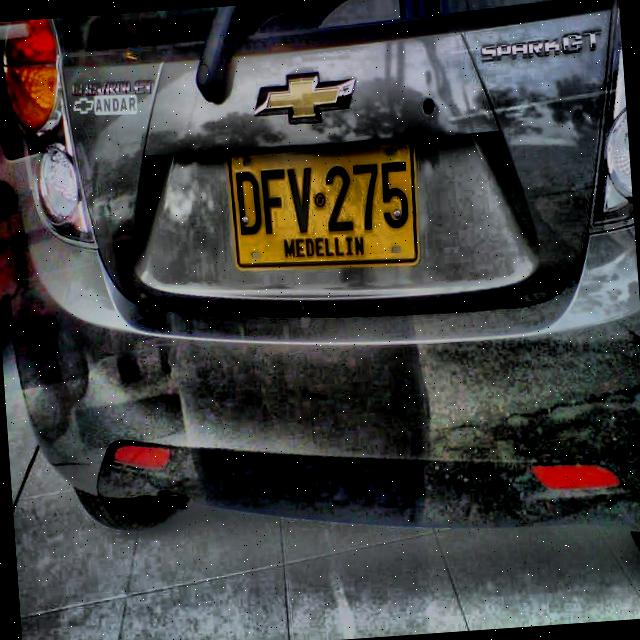2: (322, 162, 355, 232)
5: (378, 159, 412, 230)
7: (349, 162, 384, 234)
D: (234, 168, 264, 236)
F: (259, 166, 290, 236)
V: (284, 164, 316, 234)
